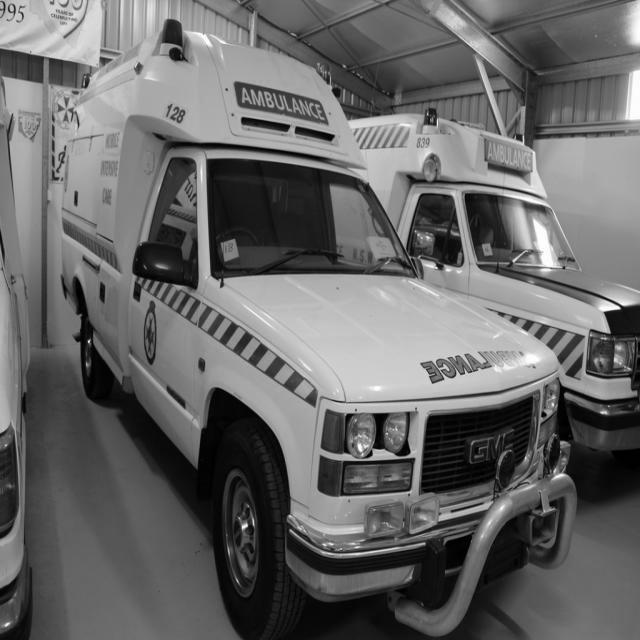Ambulance: (61, 19, 578, 640), (350, 109, 640, 463)
